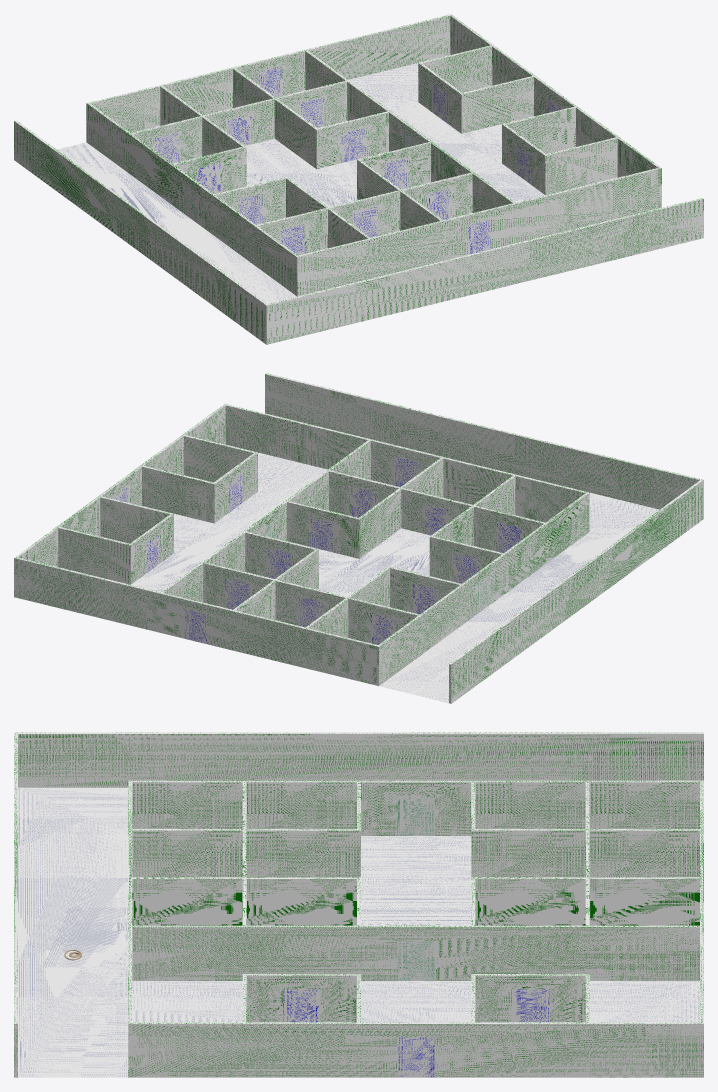
3 views of the same model, one above another, from view 1: azimuth 30°, elevation 25°; view 2: azimuth 150°, elevation 25°; view 3: azimuth 270°, elevation 25° (orthographic). The views are drawn at different scales.
Visible parts, largest first — view 1: SketchUp (×31); view 2: SketchUp (×31); view 3: SketchUp (×24).
Boxes of the visible parts, x1,y1,x2,y2 form: SketchUp (×31): (14, 14, 703, 344); SketchUp (×31): (14, 373, 703, 703); SketchUp (×24): (14, 732, 703, 1077).
Bounding box in the file's own units: 1050 × 1050 × 90.
